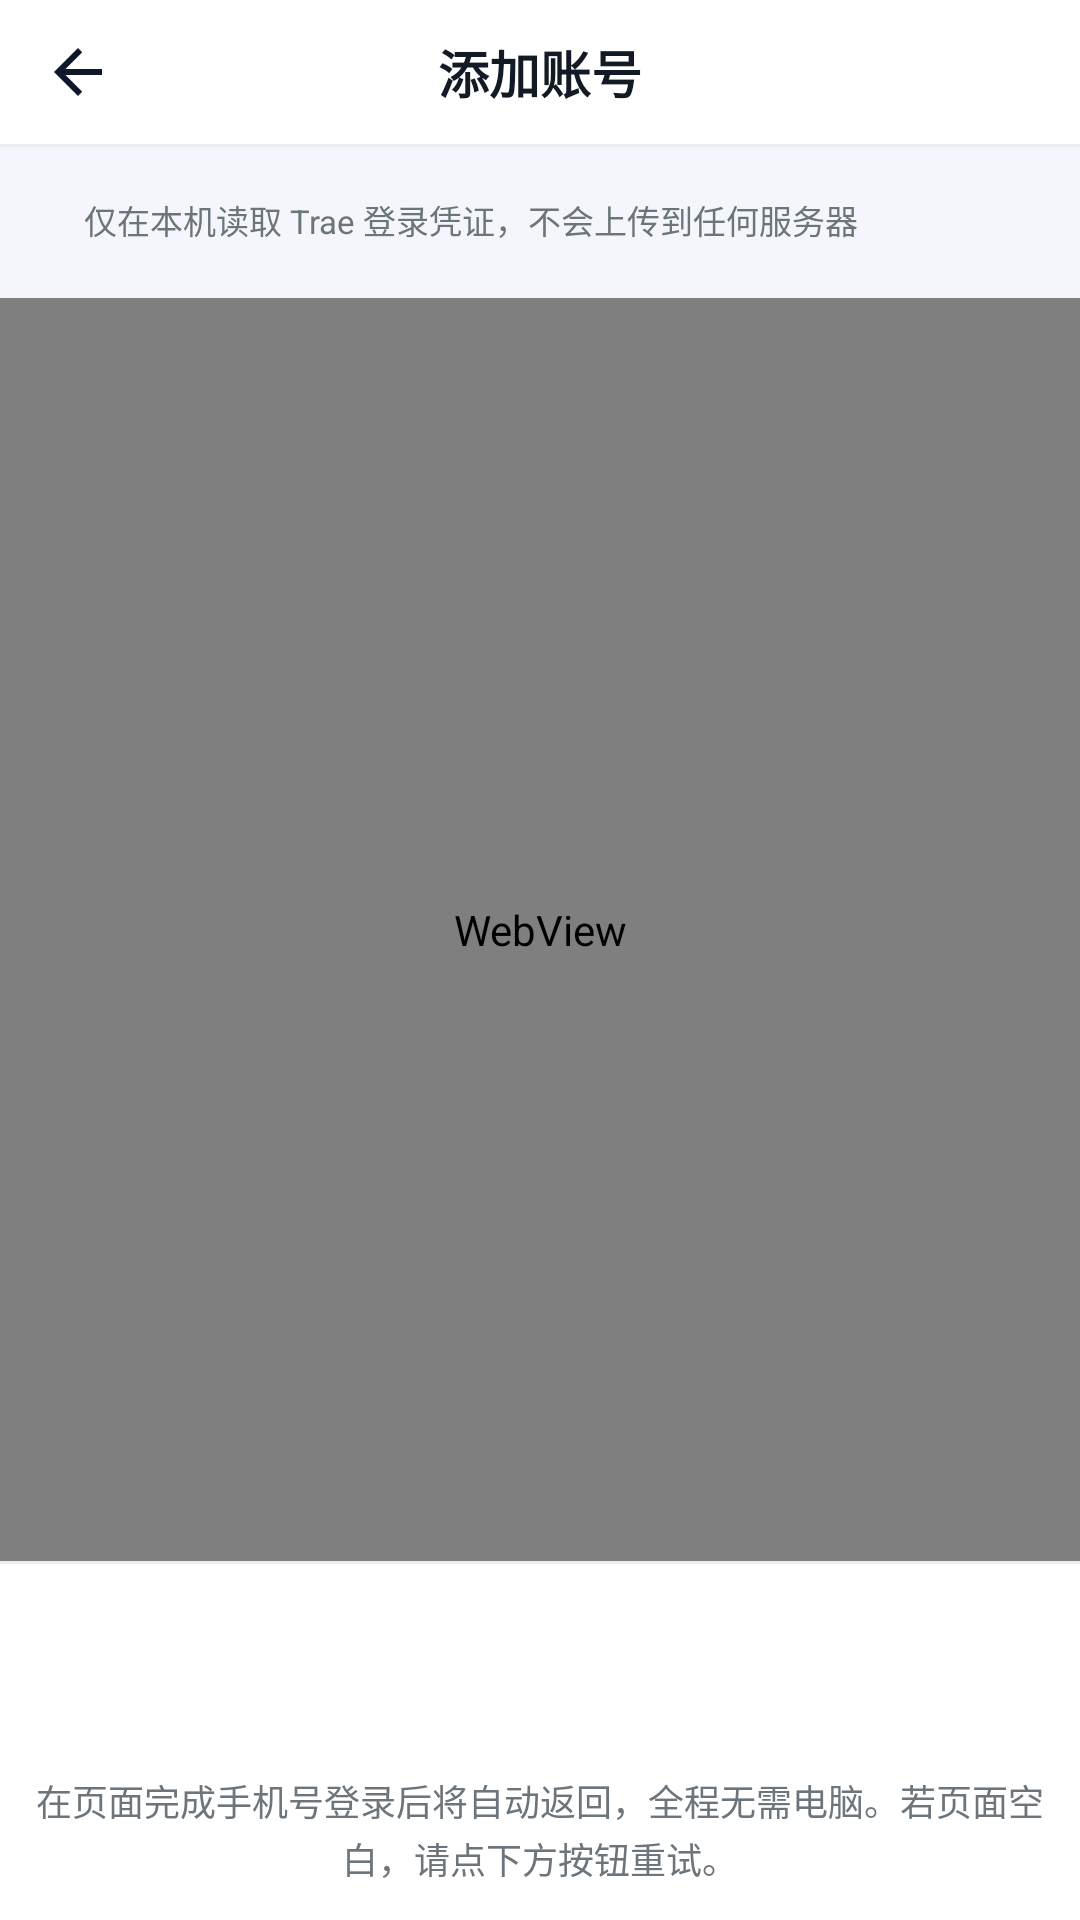

Locate icon controls on the screen. Image size 1080×1920, boxes as [x1,y1,x2,y2].
返回: [54,48,102,96]
